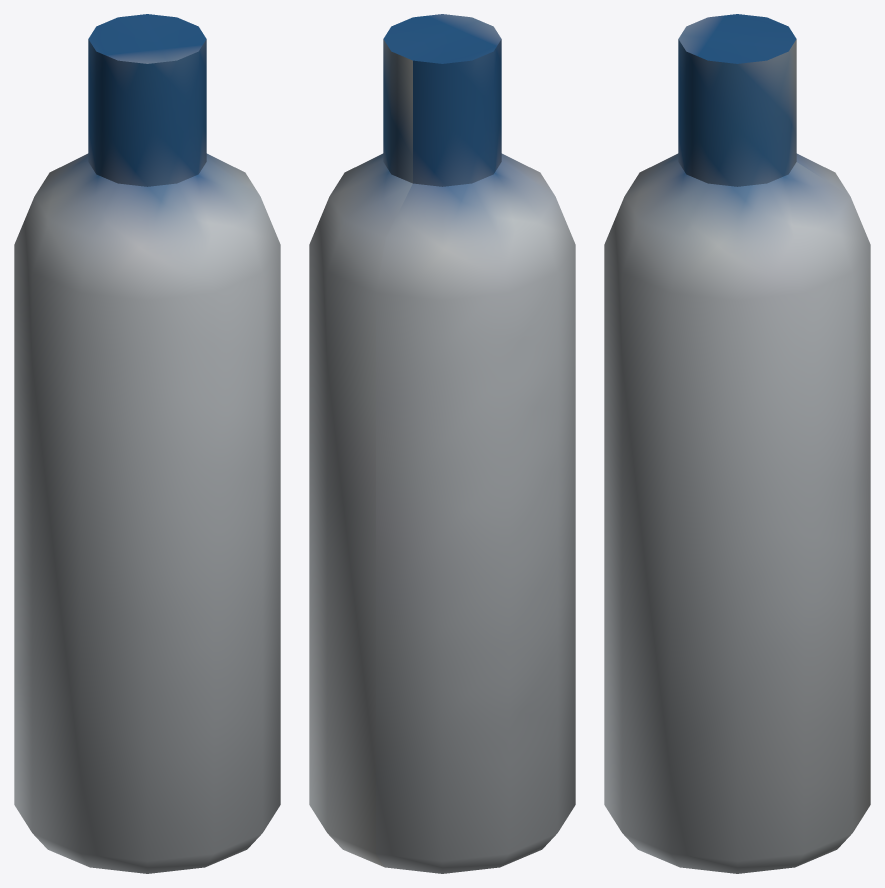
File: T_Shampoo.FBX
The picture shows the model from 3 angles, left to right: view 1: azimuth 30°, elevation 25°; view 2: azimuth 150°, elevation 25°; view 3: azimuth 270°, elevation 25°; orthographic projection.
Parts seen in each view (by area): view 1: T_Shampoo; view 2: T_Shampoo; view 3: T_Shampoo.
Part boxes in pixels (x1,y1,x2,y2): T_Shampoo: [14, 14, 280, 873]; T_Shampoo: [309, 14, 575, 873]; T_Shampoo: [604, 14, 870, 873].
Bounding box in the file's own units: 6.38 × 20.81 × 6.38.
